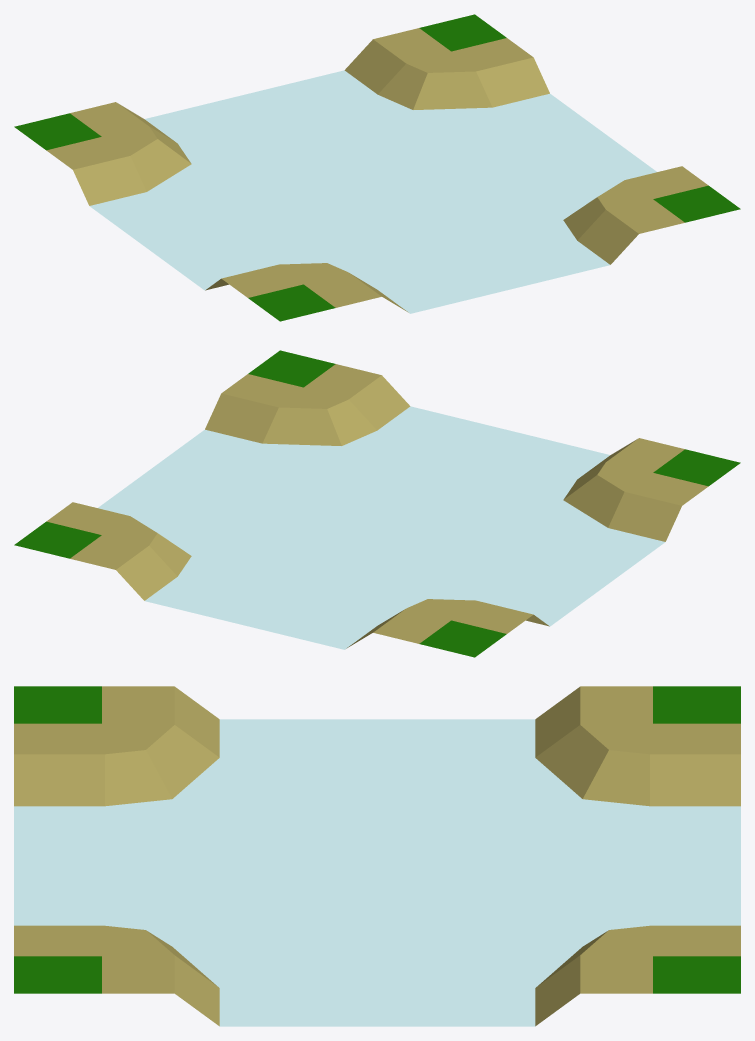
The model's file is ground_riverCross.fbx.
The picture shows the model from 3 angles, top to bottom: view 1: azimuth 30°, elevation 25°; view 2: azimuth 150°, elevation 25°; view 3: azimuth 270°, elevation 25°; orthographic projection. The views are drawn at different scales.
Parts seen in each view (by area): view 1: ground_riverCross; view 2: ground_riverCross; view 3: ground_riverCross.
Part boxes in pixels (bbox=[...]): ground_riverCross: bbox=[14, 14, 740, 321]; ground_riverCross: bbox=[14, 350, 740, 657]; ground_riverCross: bbox=[14, 686, 740, 1026].
Bounding box in the file's own units: 100 × 5 × 100.
